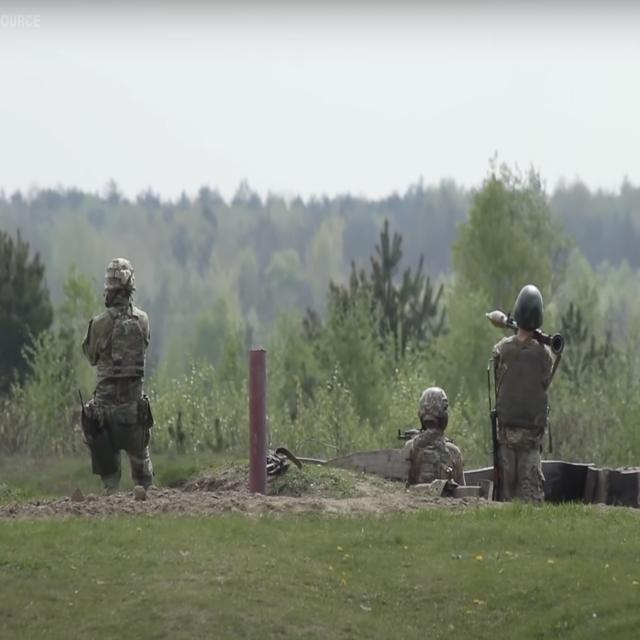bazooka: (481, 292, 572, 375)
